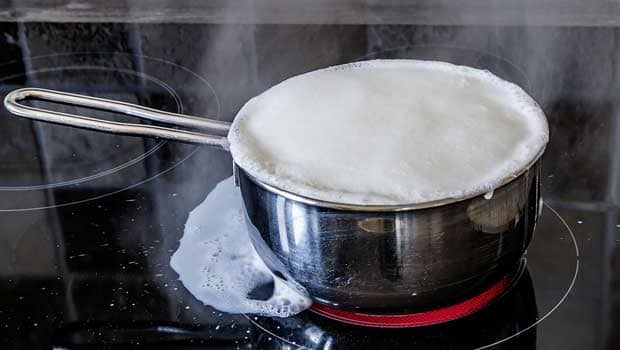Boiled: (225, 51, 558, 244)
